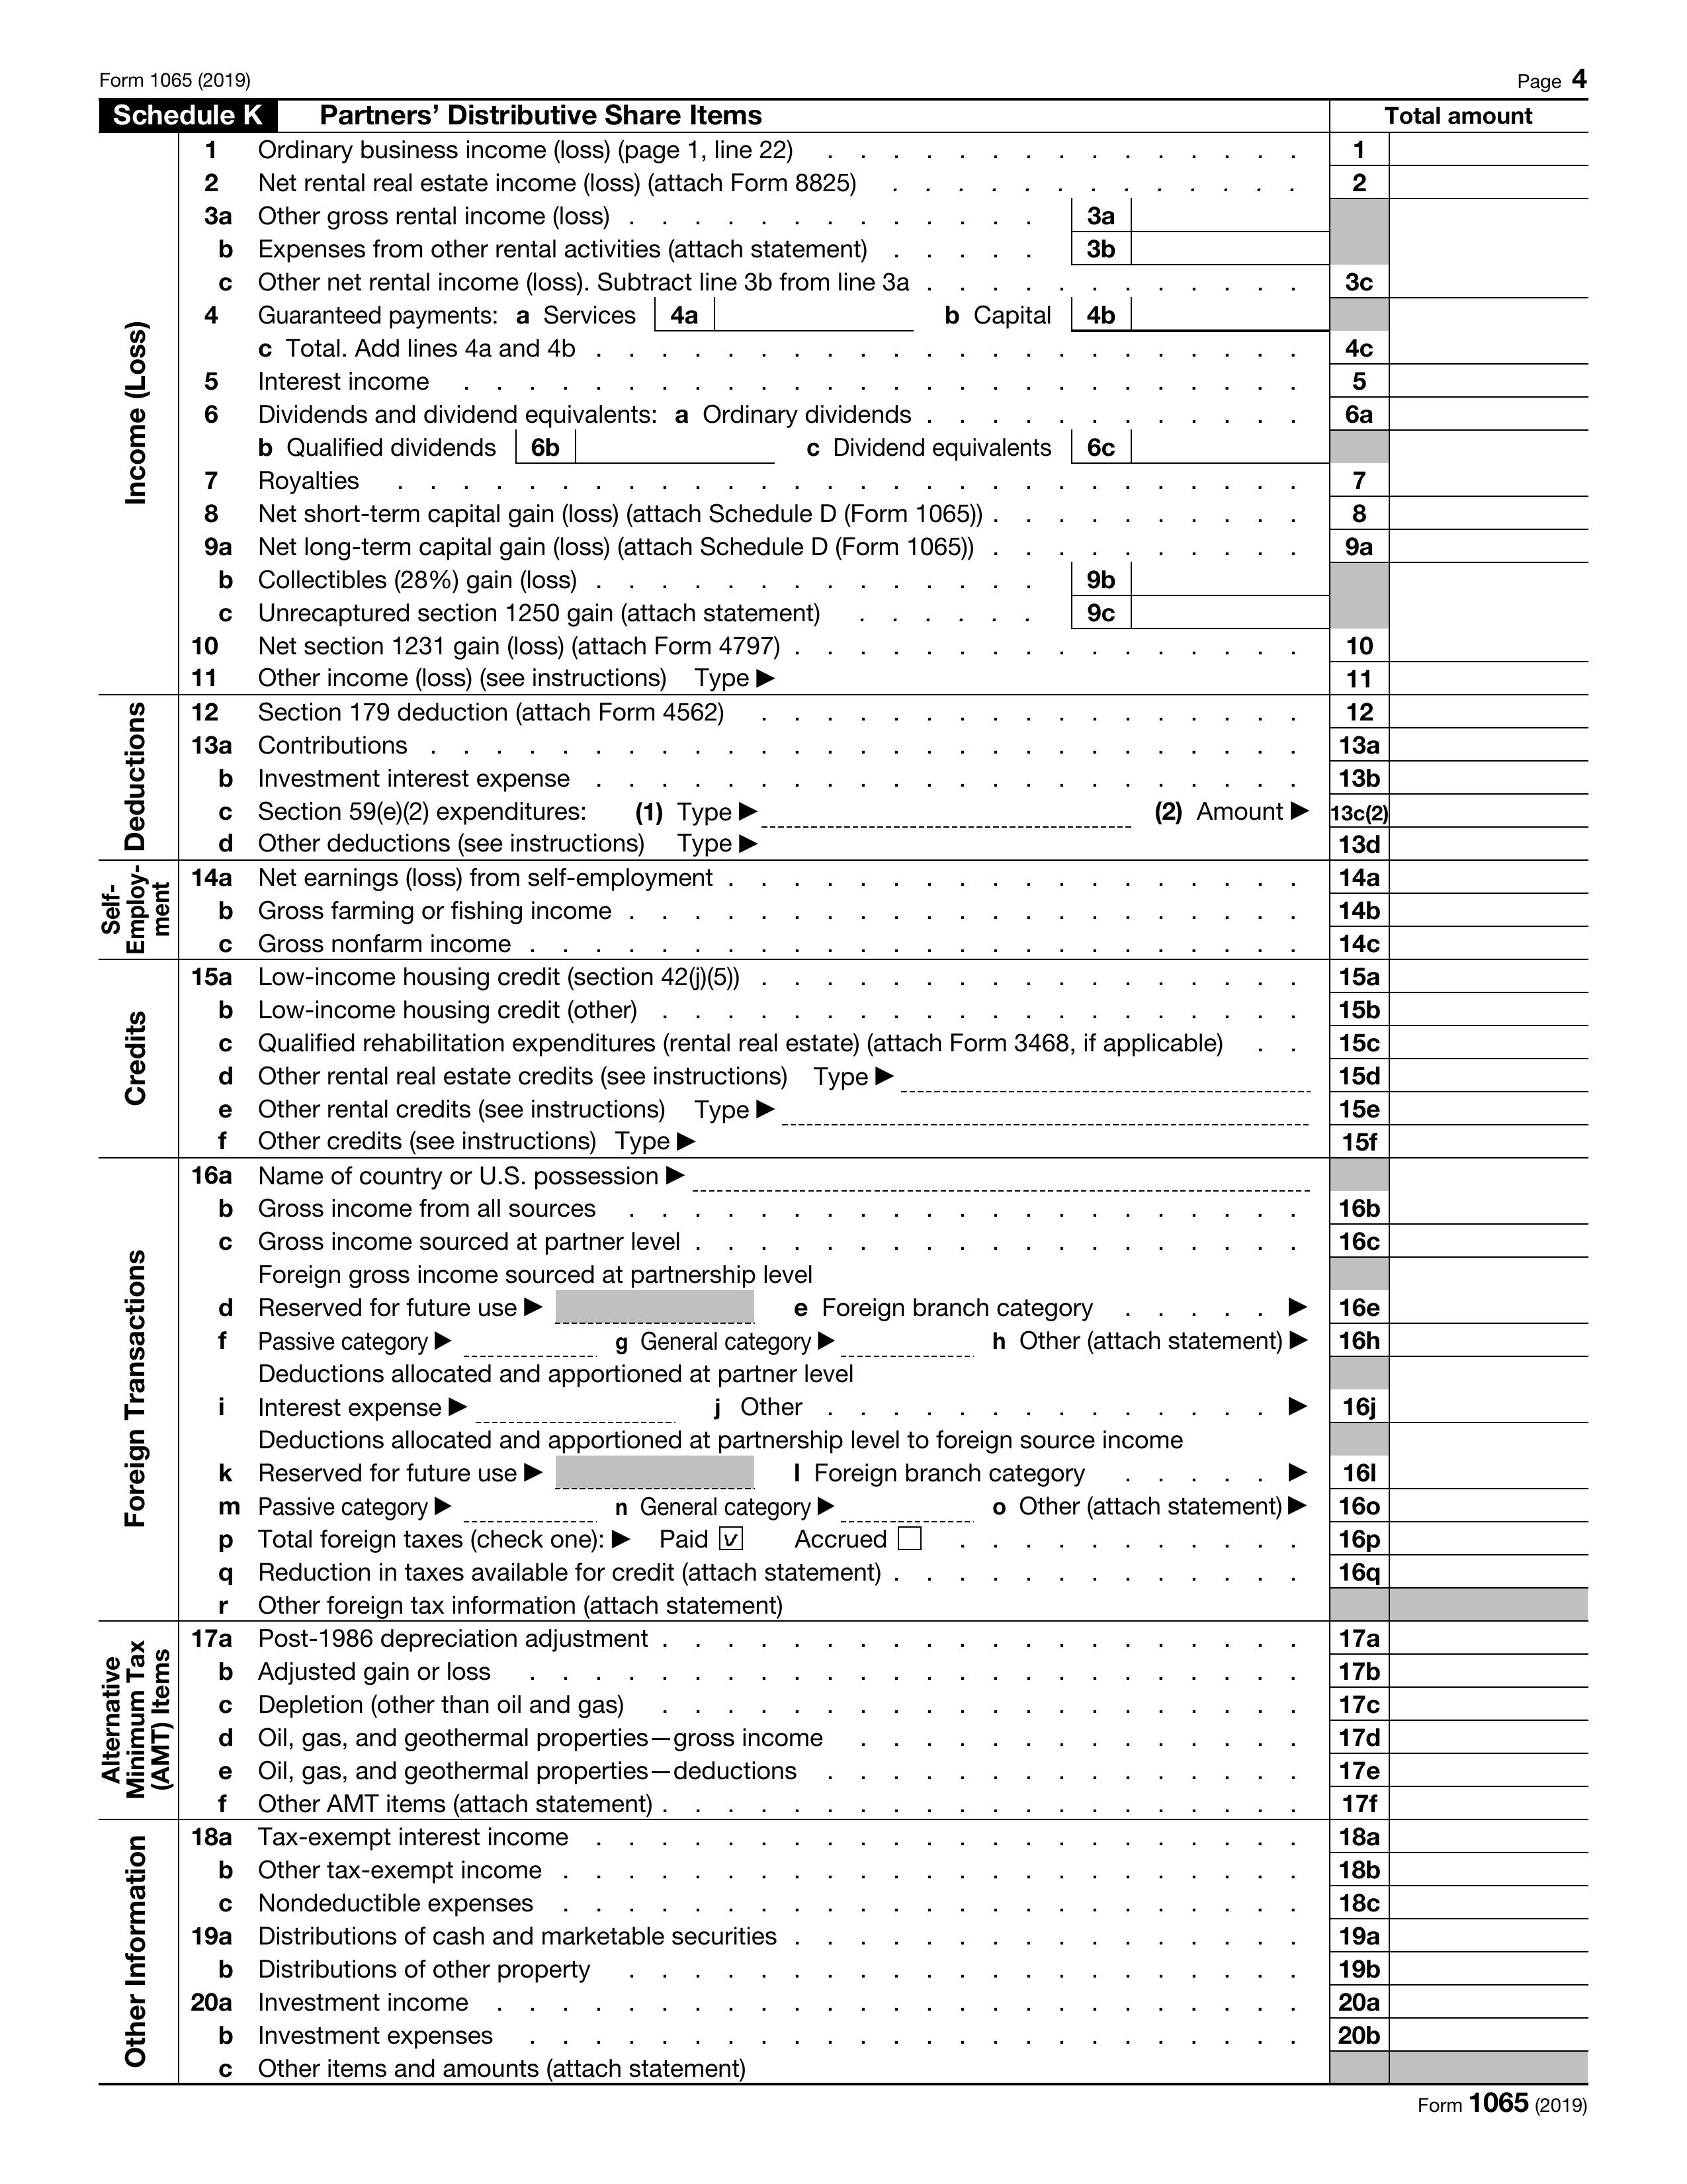filled checkbox: (718, 1527, 746, 1555)
unfilled checkbox: (898, 1529, 923, 1553)
